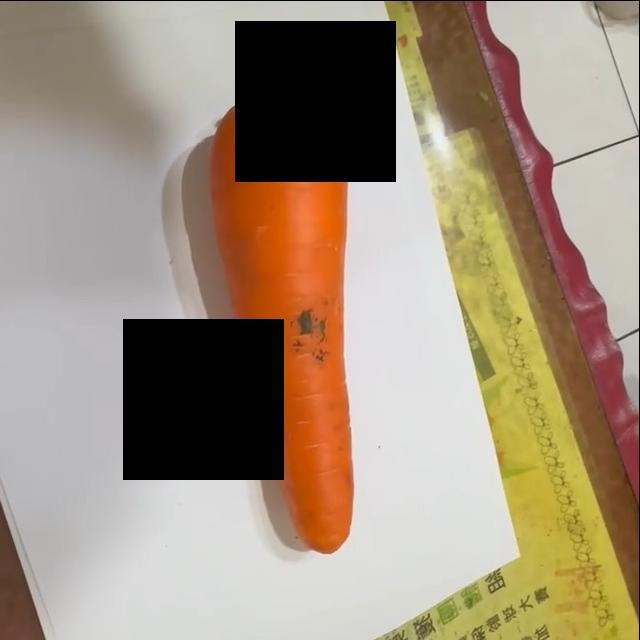carrot: (214, 63, 357, 551)
